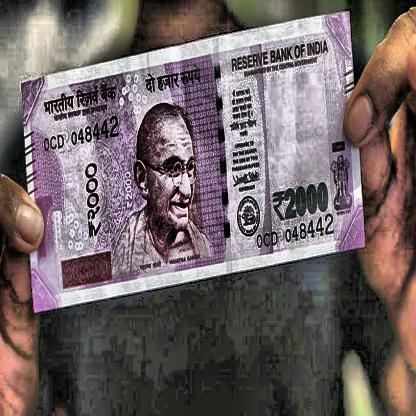Rs2000: (268, 176, 335, 231)
